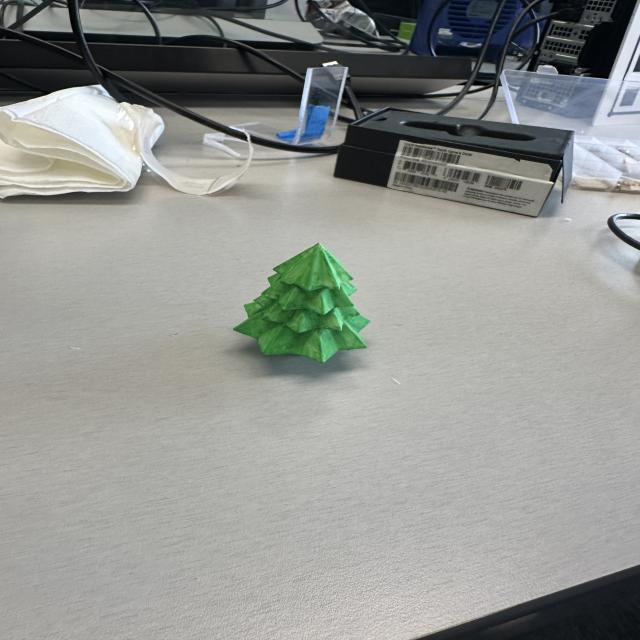tree: (231, 243, 370, 364)
